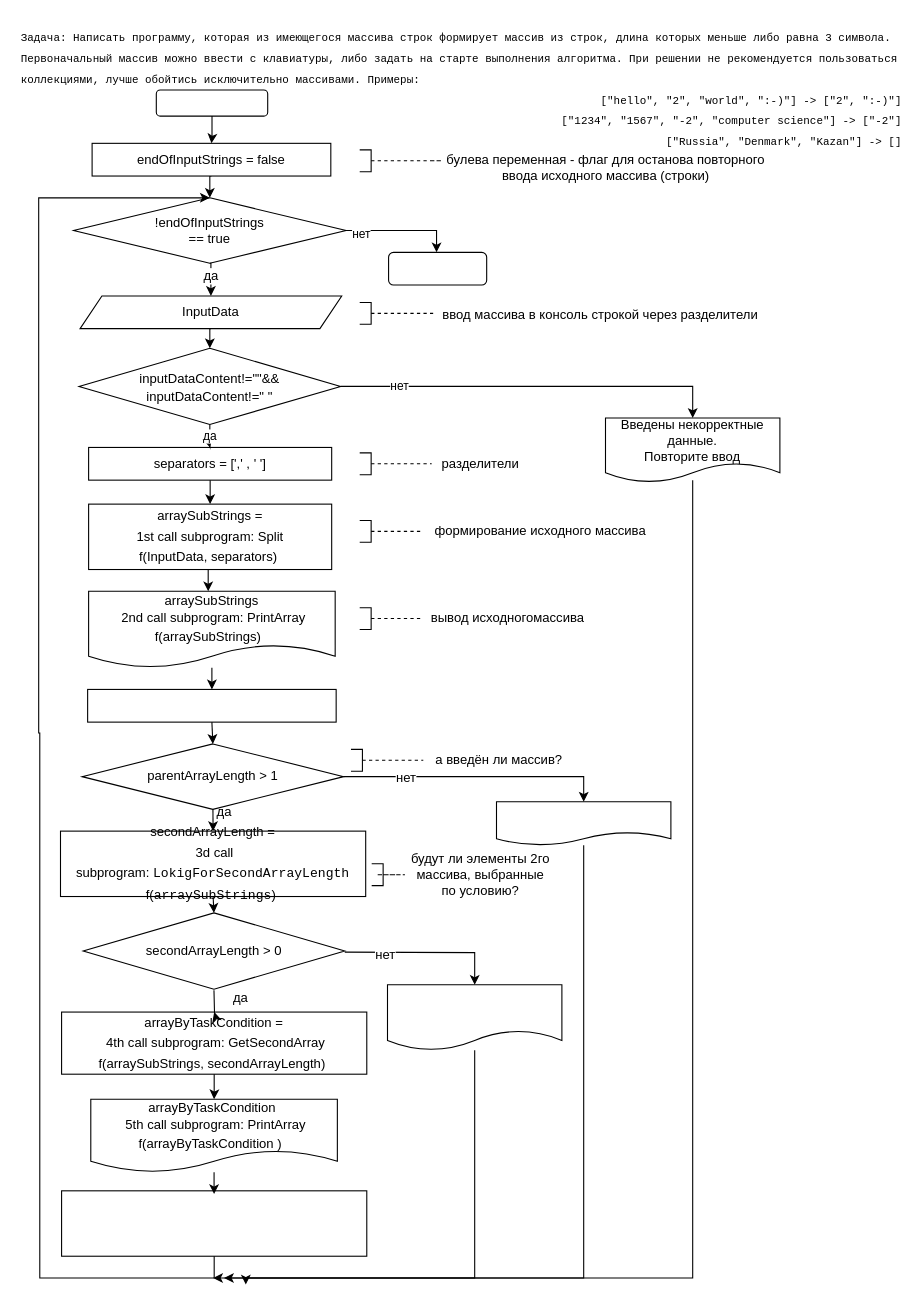
This 920x1312 diagram has some shape labels left out. The shapes that lost their labels are listed below. From the top down, each one's centre as x and y in pixels, then its label:
(211,102): Начало
(437,268): Конец
(211,705): parentArrayLength
(583,823): Один элемент не массив
(474,1017): "-> []" элементов, удовлетворяющих условию нет
(213,1223): endOfInputStrings = 6th call subprogram: TryRunProgramAgain f(endOfInputStrings)
